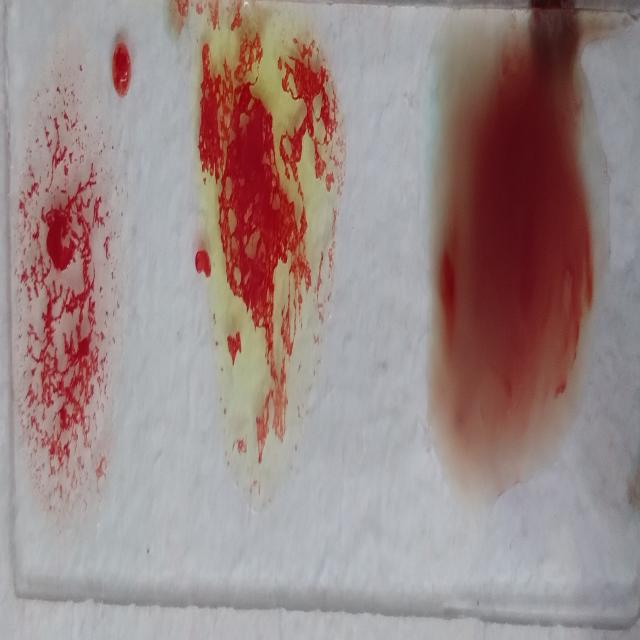B: (186, 12, 346, 500)
D: (15, 41, 118, 526)
